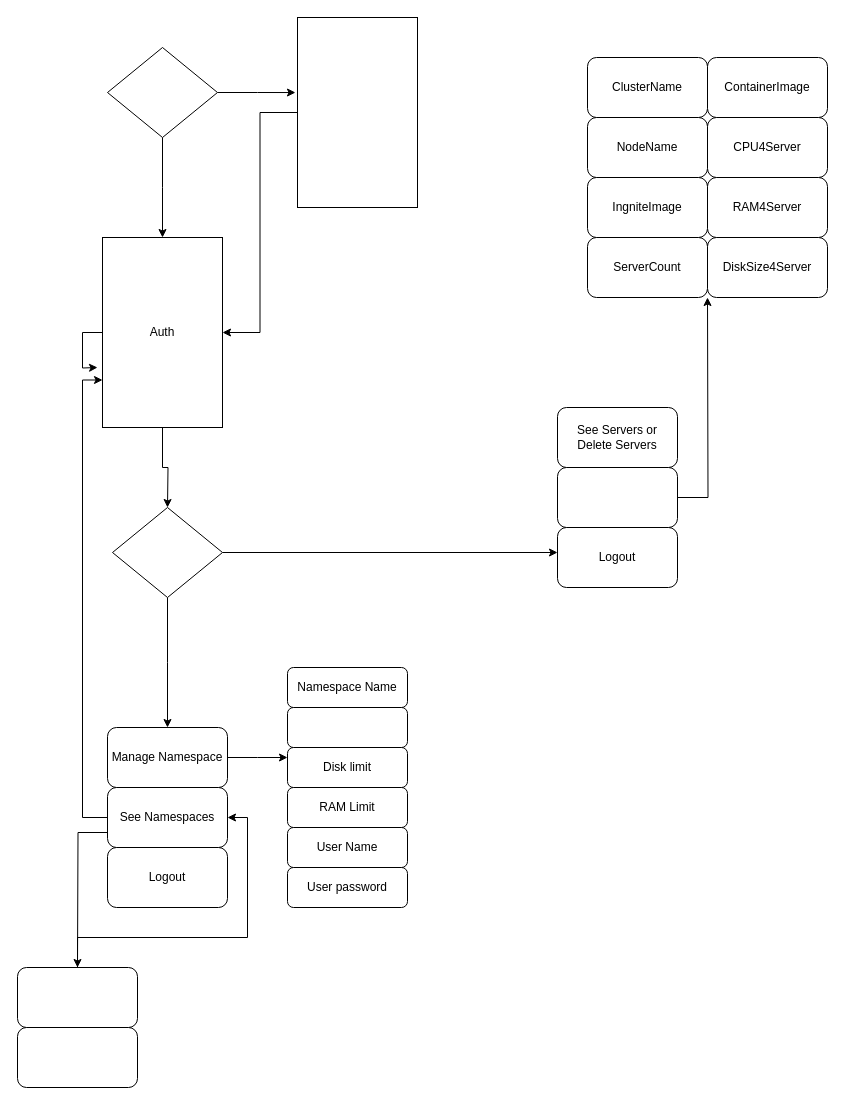
The diagram is 845 pixels wide and 1105 high, and some of its shapes have lost their labels. The shapes that lost their labels are listed below. From the top down, each one's centre as x and y in pixels, then its label:
point (162, 92): If root is exist
point (357, 112): Installation (задаем пароль рута)
point (617, 497): Create Servers
point (167, 552): Are you root?
point (347, 727): CPU Limit
point (77, 997): See all namespaces
point (77, 1057): Delete namespace
